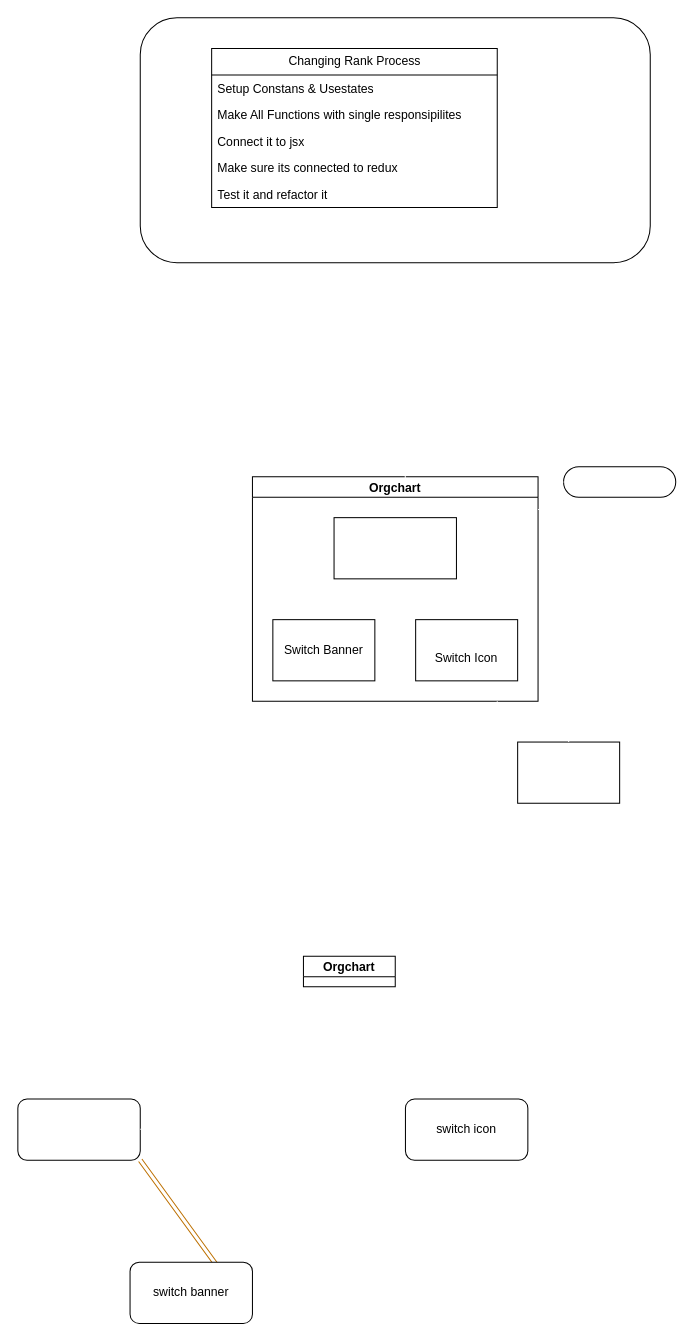
Some shapes in this 694 by 1341 pixel diagram are drawn without their labels. Here are the shapes that lost their labels. From the top down, the centre of each, then its label:
the point at 619,481: Clean Code
the point at 394,548: Change Rank
the point at 568,772: Images Optimization
the point at 78,1129: rank updating
